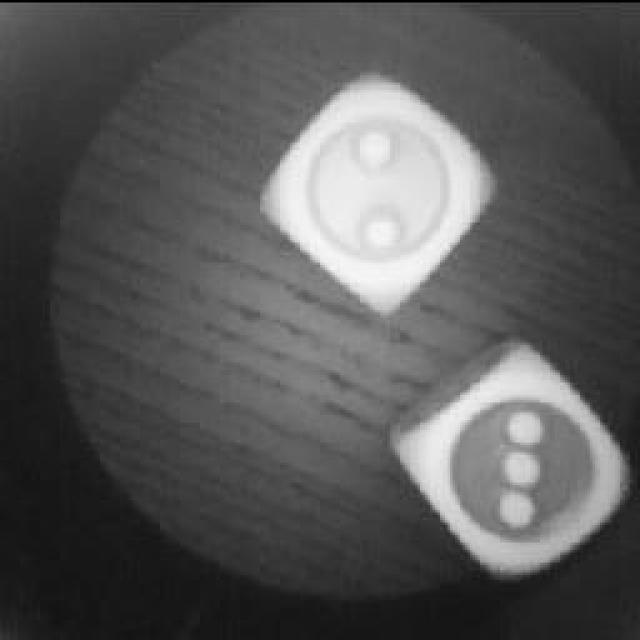dice_2: (258, 70, 492, 305)
dice_3: (392, 342, 628, 592)
